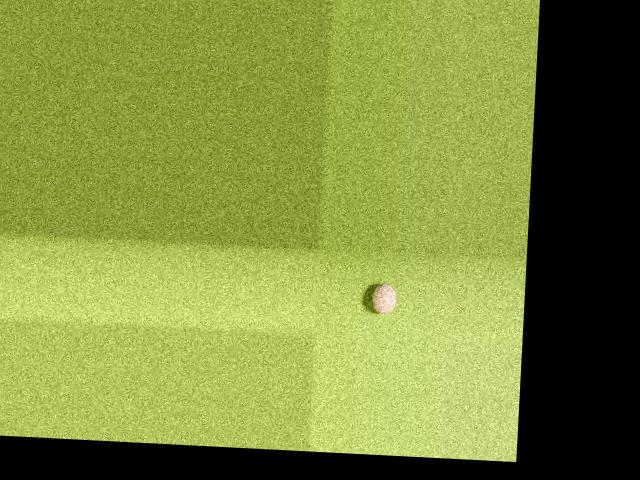egg: (371, 281, 396, 314)
